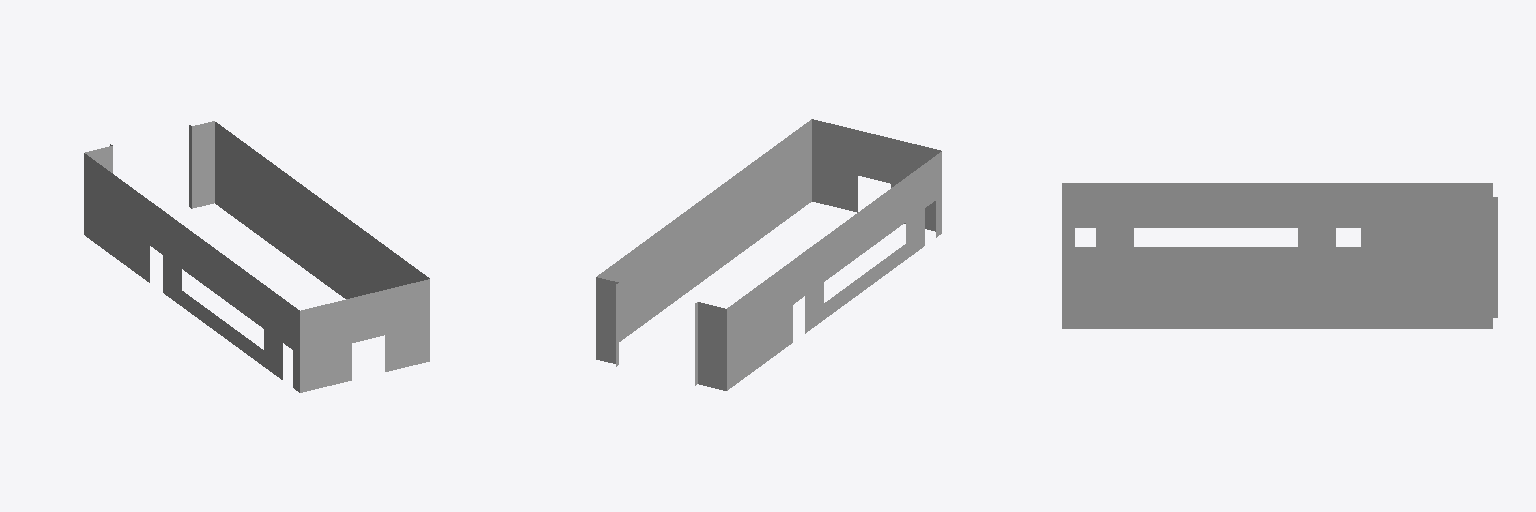
Rendered from Map3VipWalls.obj.
3 renders of one model, left to right at view 1: azimuth 30°, elevation 25°; view 2: azimuth 150°, elevation 25°; view 3: azimuth 270°, elevation 25°, orthographic.
Parts seen in each view (by area): view 1: Plane.000_Plane.001; view 2: Plane.000_Plane.001; view 3: Plane.000_Plane.001.
Boxes of the visible parts, box(x1,y1,x2,y2) form: Plane.000_Plane.001: box(84, 121, 429, 392); Plane.000_Plane.001: box(596, 119, 941, 390); Plane.000_Plane.001: box(1062, 183, 1497, 328).
Size of the model in its own units: 8.28 by 5.01 by 24.